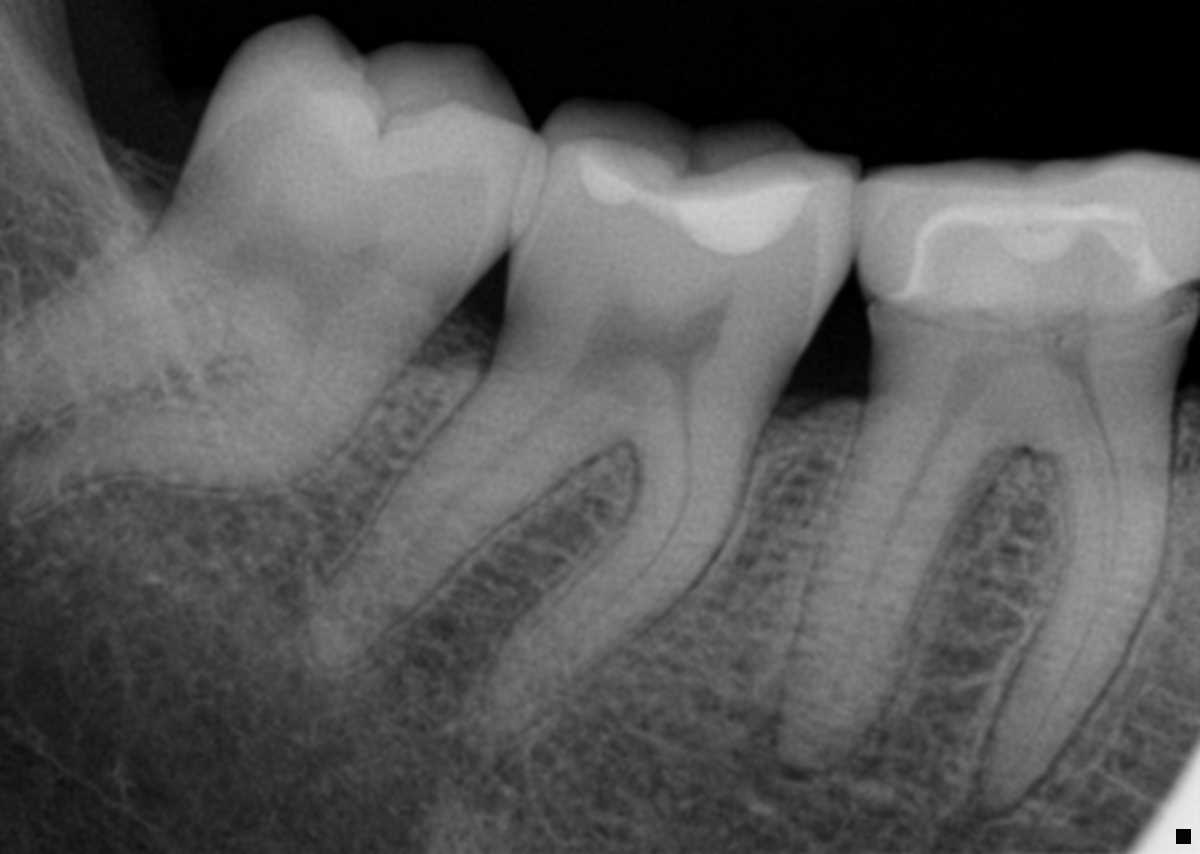Apical Lesion: (740, 718, 880, 824), (962, 777, 1020, 830)
Distal Canal: (818, 446, 943, 723)
Distal Root: (307, 351, 627, 674), (776, 401, 1017, 777), (0, 239, 236, 434)
Mesial Canal: (500, 436, 695, 687), (990, 460, 1120, 787), (88, 340, 317, 458)
Mesial Root: (465, 406, 773, 751), (0, 333, 391, 522), (979, 464, 1170, 813)
